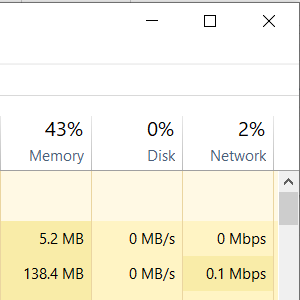close: (252, 7, 283, 34)
